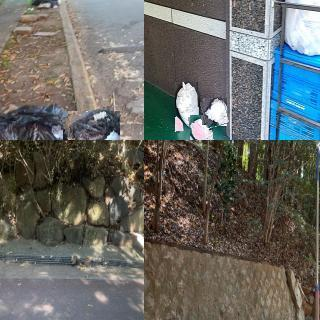Garbage: (65, 107, 122, 140), (0, 118, 64, 140), (175, 83, 200, 133), (202, 97, 229, 128), (189, 115, 213, 140)
